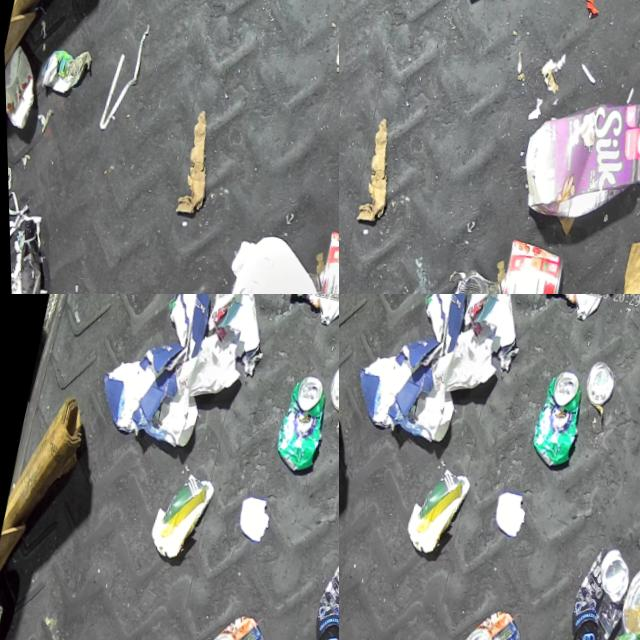can: (558, 540, 636, 640), (268, 369, 333, 474), (524, 364, 589, 469), (489, 234, 566, 294), (2, 42, 44, 130), (302, 545, 339, 640), (452, 602, 524, 640), (613, 550, 640, 639), (196, 607, 268, 640), (436, 262, 506, 294), (308, 226, 339, 294), (581, 358, 618, 407), (324, 362, 339, 412), (0, 595, 5, 640)
milk_jug: (197, 224, 338, 294)
non_white_jug: (509, 77, 640, 239)
